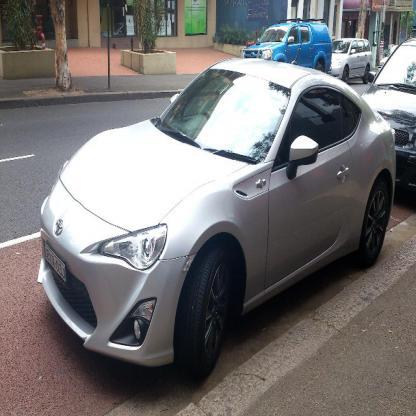car: (37, 58, 397, 390), (361, 35, 415, 202), (242, 20, 332, 76), (328, 37, 370, 82)
